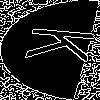K: (24, 25, 100, 65)
